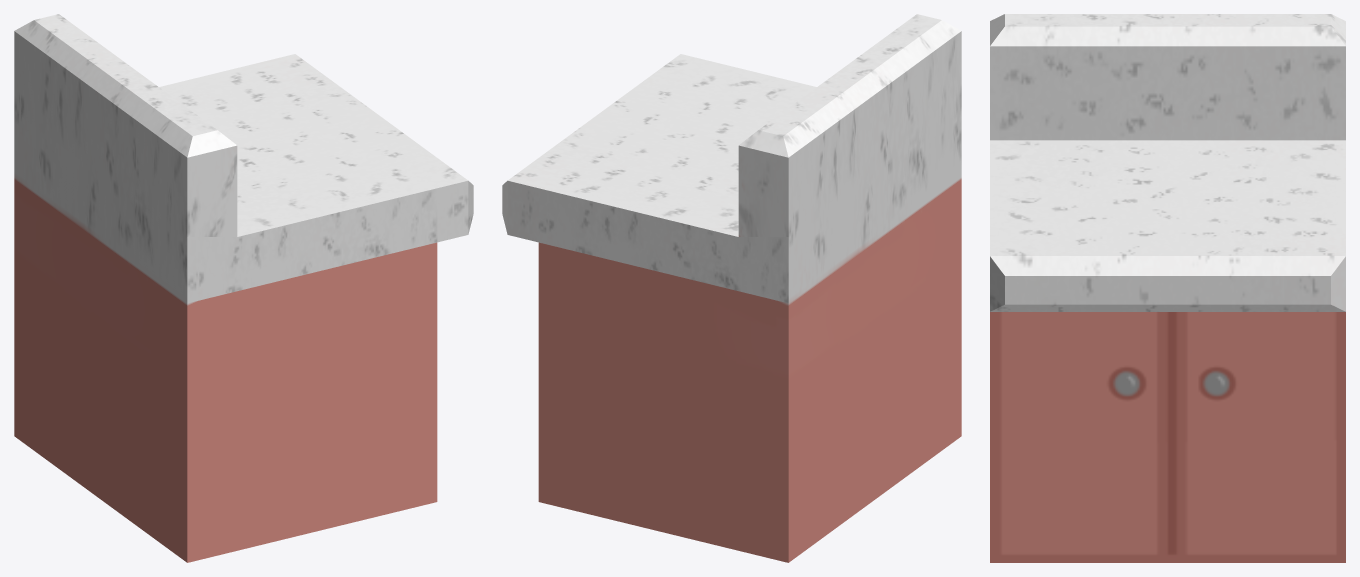
File: Counter_Top_01.fbx
3 renders of one model, left to right at view 1: azimuth 30°, elevation 25°; view 2: azimuth 150°, elevation 25°; view 3: azimuth 270°, elevation 25°, orthographic. The views are drawn at different scales.
Visible parts, largest first — view 1: Counter_Top_01; view 2: Counter_Top_01; view 3: Counter_Top_01.
Part boxes in pixels (x1,y1,x2,y2): Counter_Top_01: (14, 14, 473, 562); Counter_Top_01: (502, 14, 961, 562); Counter_Top_01: (990, 14, 1345, 562).
Bounding box in the file's own units: 2.94 × 4 × 3.
